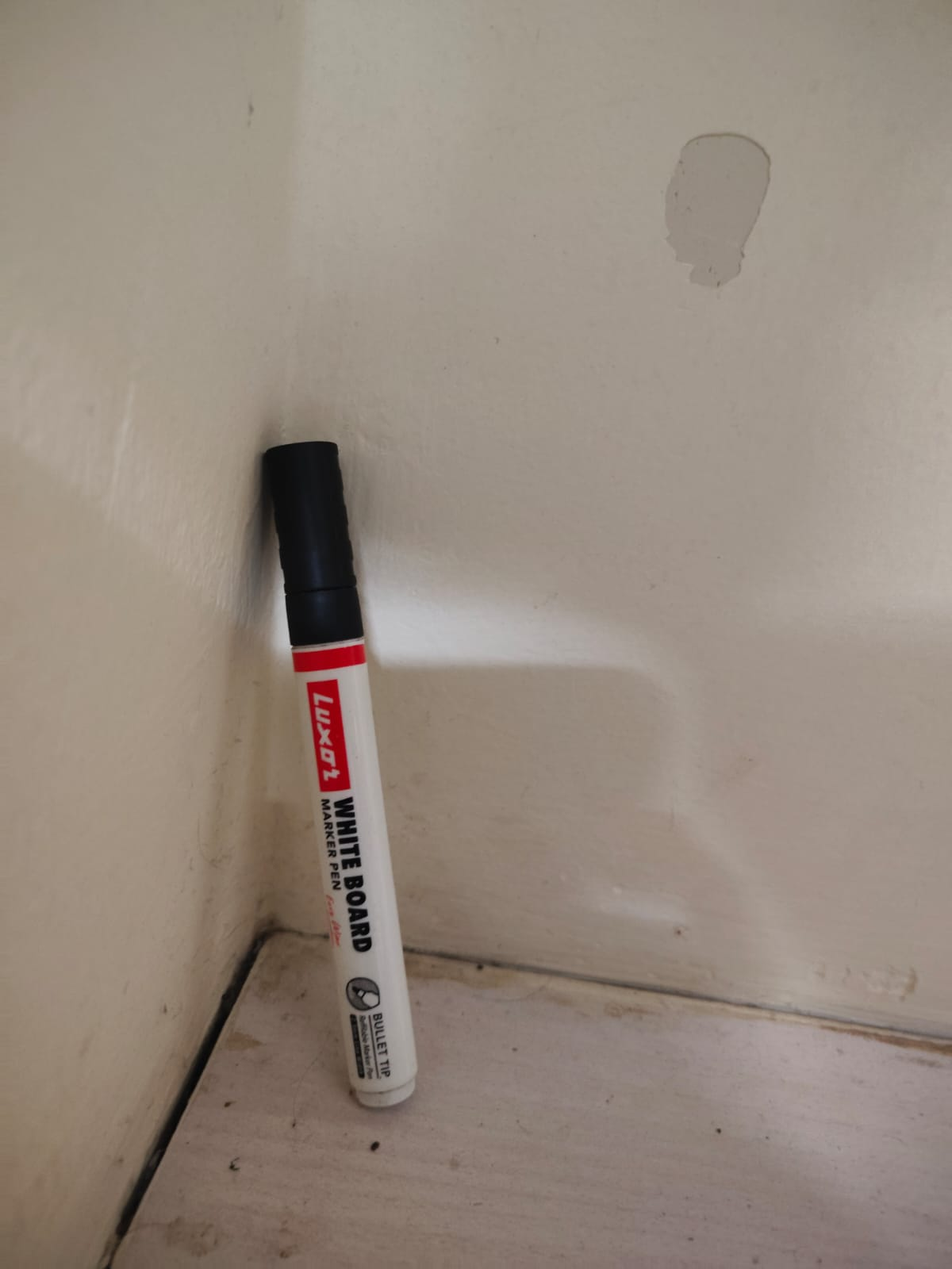case: (233, 416, 493, 1129)
